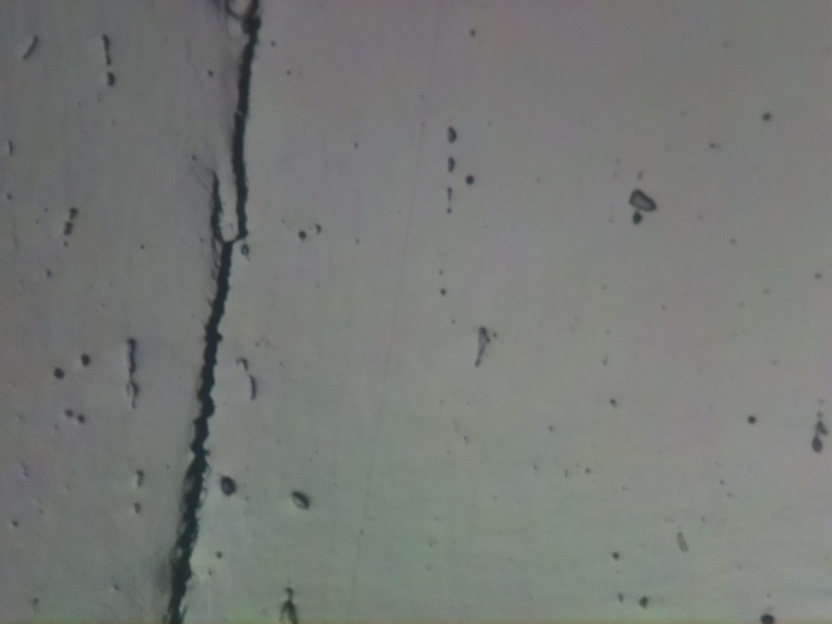crack: (162, 0, 264, 624)
